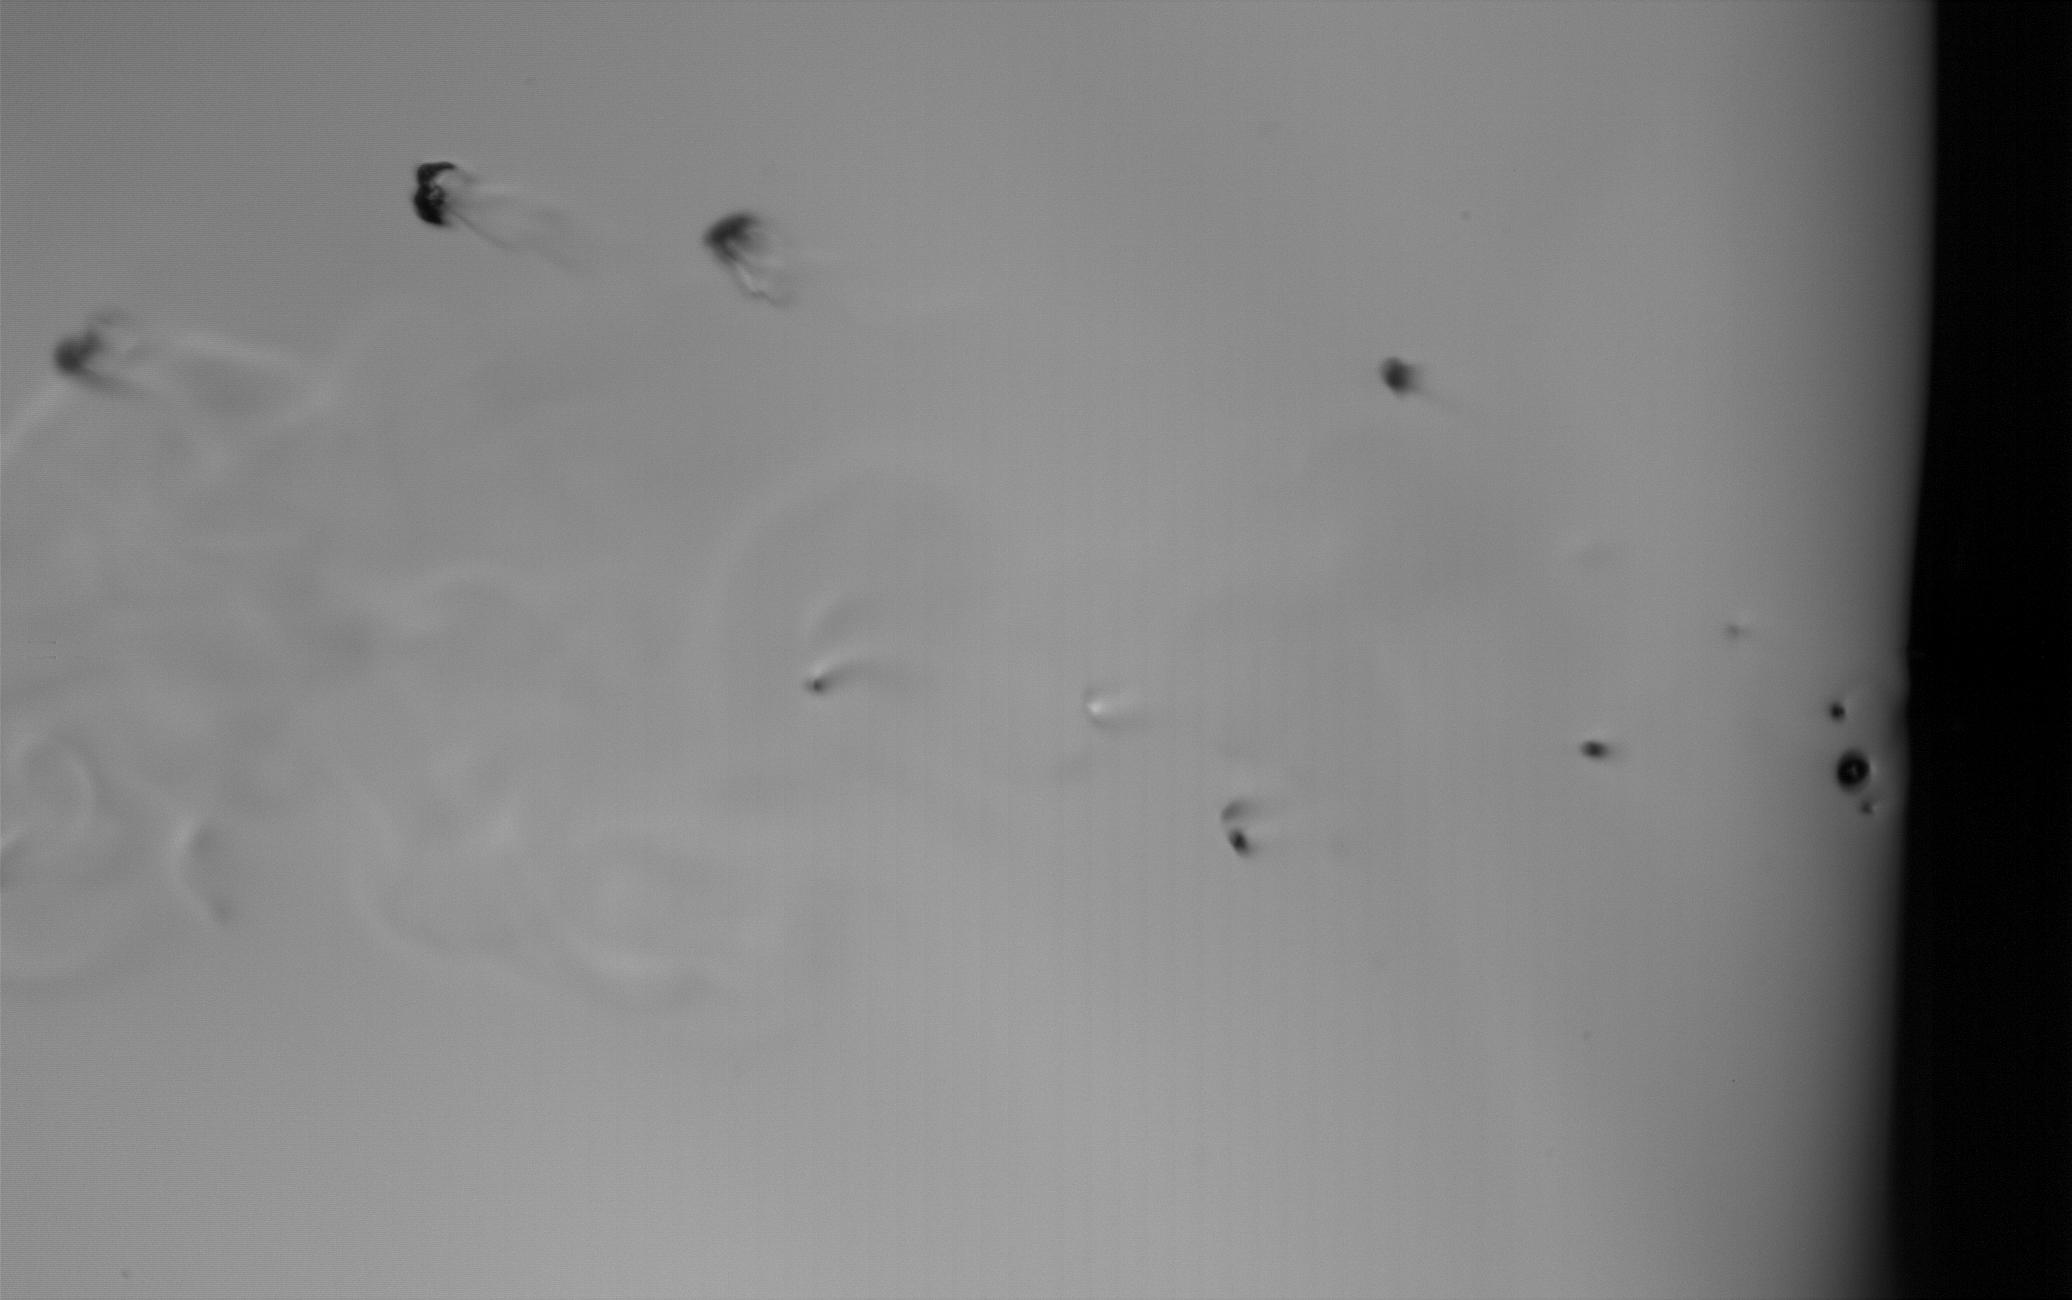Blurry: (699, 211, 765, 299), (410, 160, 454, 228), (1227, 825, 1250, 857), (1580, 740, 1609, 758)
ClassicalEvaporation: (1833, 749, 1875, 792), (1856, 798, 1880, 823), (1825, 696, 1849, 721)
TransitionalMixing: (1376, 356, 1415, 402)
